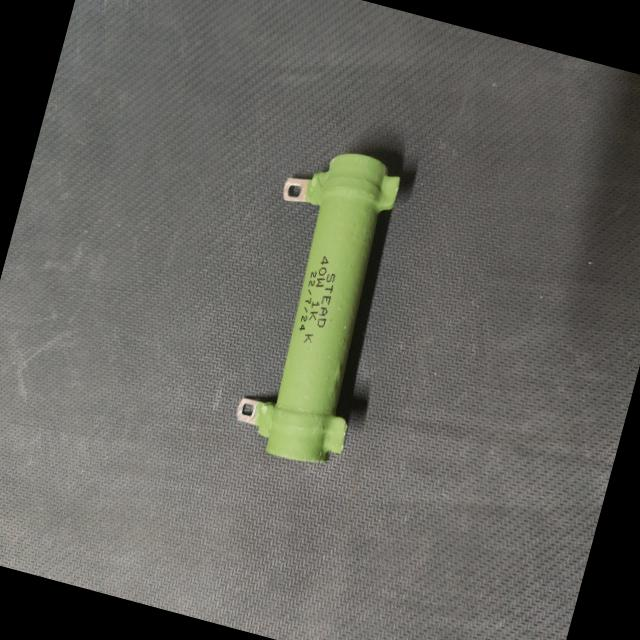resistor: (185, 120, 456, 500)
